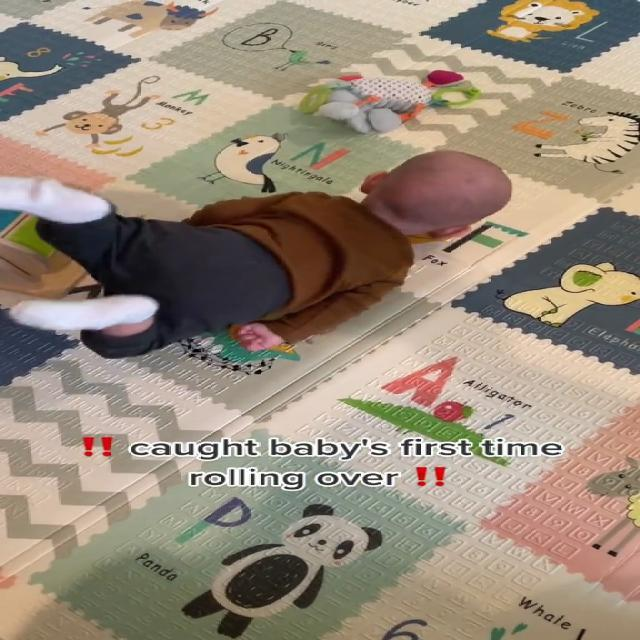baby: (0, 134, 512, 377)
